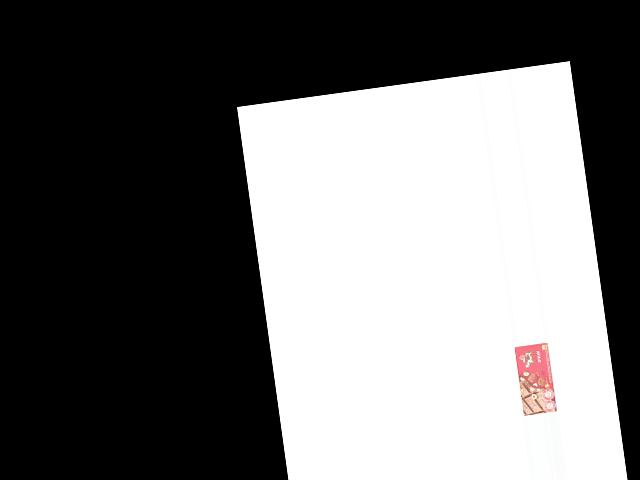chocolate: (514, 342, 557, 416)
